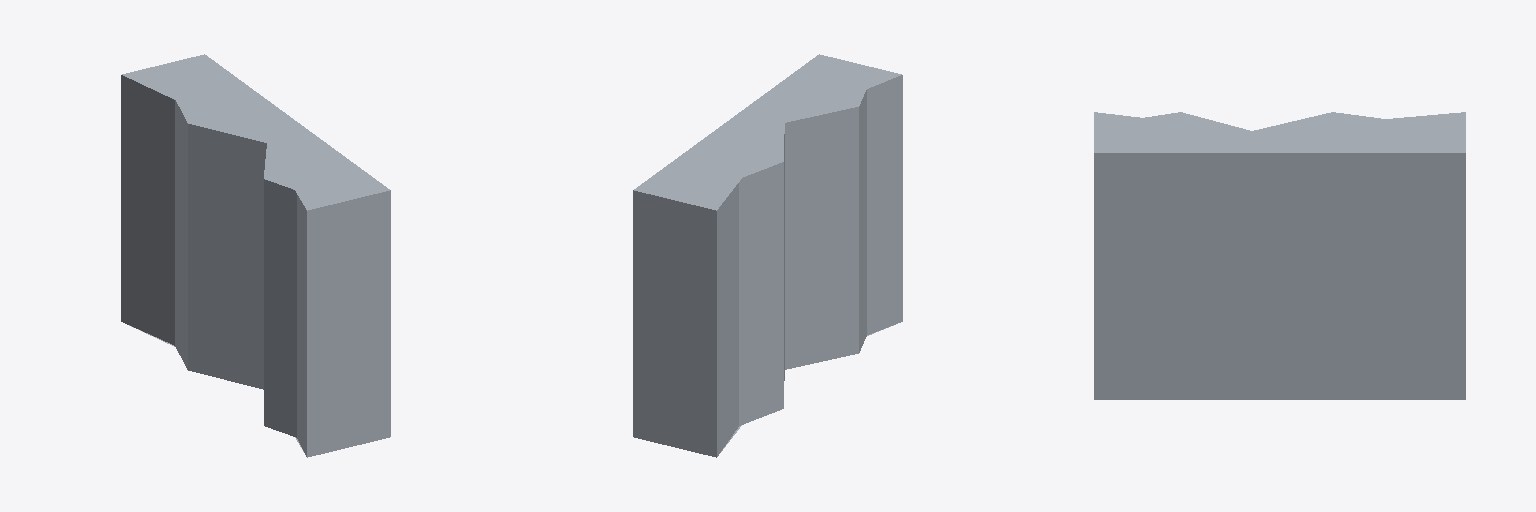
3 renders of one model, left to right at view 1: azimuth 30°, elevation 25°; view 2: azimuth 150°, elevation 25°; view 3: azimuth 270°, elevation 25°, orthographic.
Parts seen in each view (by area): view 1: Mesh1 Grey_Cliff Model; view 2: Mesh1 Grey_Cliff Model; view 3: Mesh1 Grey_Cliff Model.
Part boxes in pixels (left/top/right/bottom): Mesh1 Grey_Cliff Model: left=121, top=54, right=390, bottom=457; Mesh1 Grey_Cliff Model: left=633, top=54, right=902, bottom=457; Mesh1 Grey_Cliff Model: left=1094, top=112, right=1465, bottom=399.
Size of the model in its own units: 0.78 by 2.2 by 3.
1 materials, 1 textured.